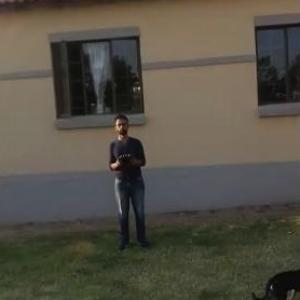follow: (107, 108, 152, 256)
null: (248, 263, 299, 299)
